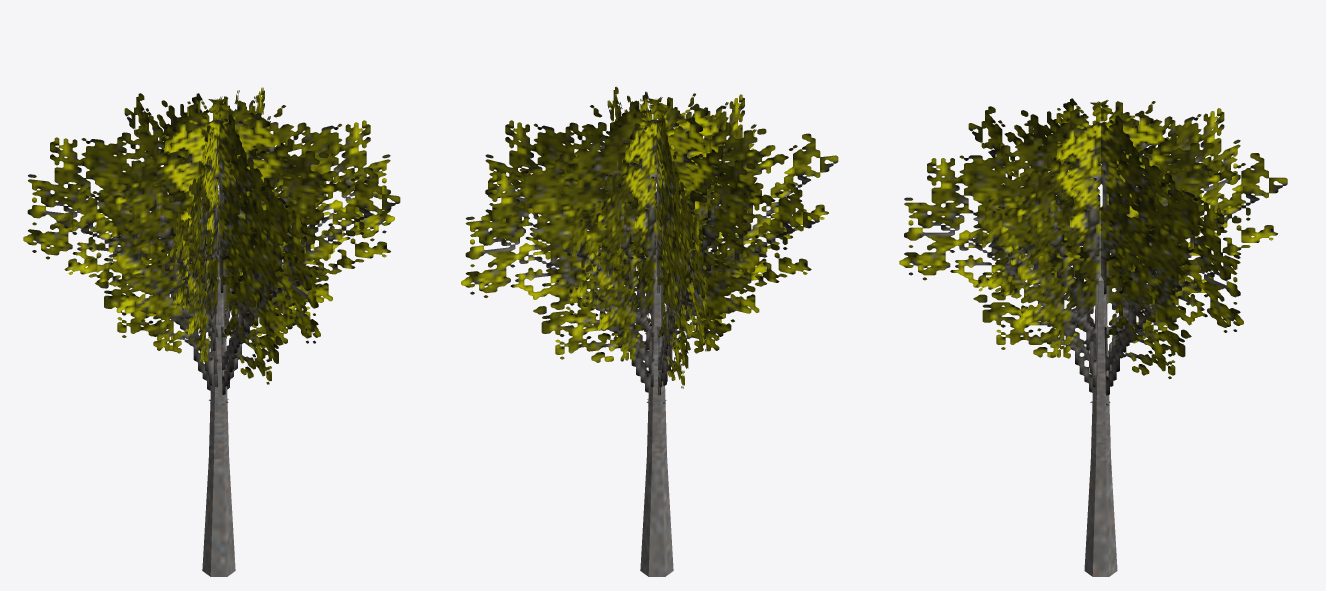
Rendered from tree35.glb.
3 views of the same model, side by side, from view 1: azimuth 30°, elevation 25°; view 2: azimuth 150°, elevation 25°; view 3: azimuth 270°, elevation 25° (orthographic).
Visible parts, largest first — view 1: tree35; view 2: tree35; view 3: tree35.
Boxes of the visible parts, bbox=[...] form: tree35: bbox=[23, 87, 400, 576]; tree35: bbox=[461, 86, 838, 576]; tree35: bbox=[899, 98, 1287, 576].
Size of the model in its own units: 10.2 by 12.5 by 10.2.
Materials: 1 (1 with a texture image).
